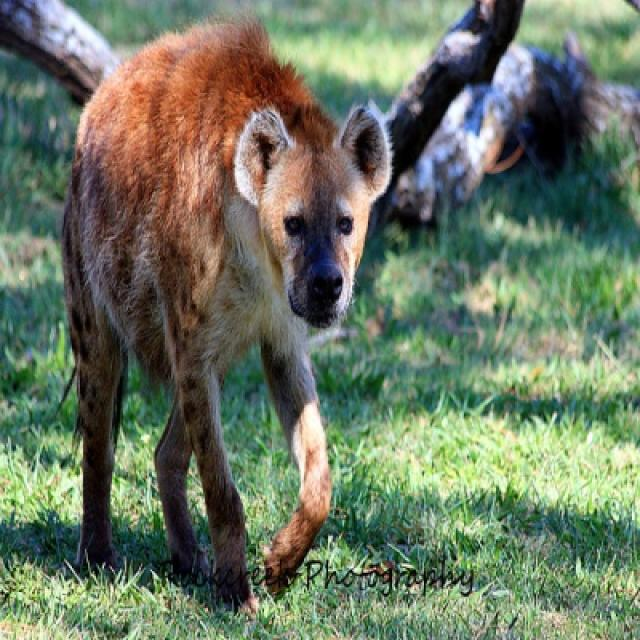hyena: (61, 21, 438, 610)
